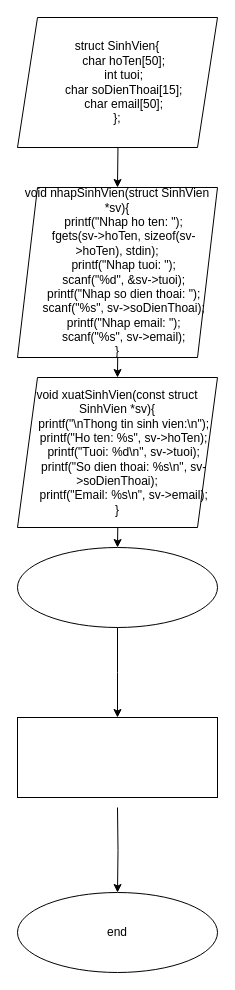
This 235x990 diagram has some shape labels left out. Each missing label, with the centre of its shape:
"start" goes at (117,587).
"struct SinhVien sv; nhapSinhVien(&sv); xuatSinhVien(&sv); return 0;" goes at (117,757).
